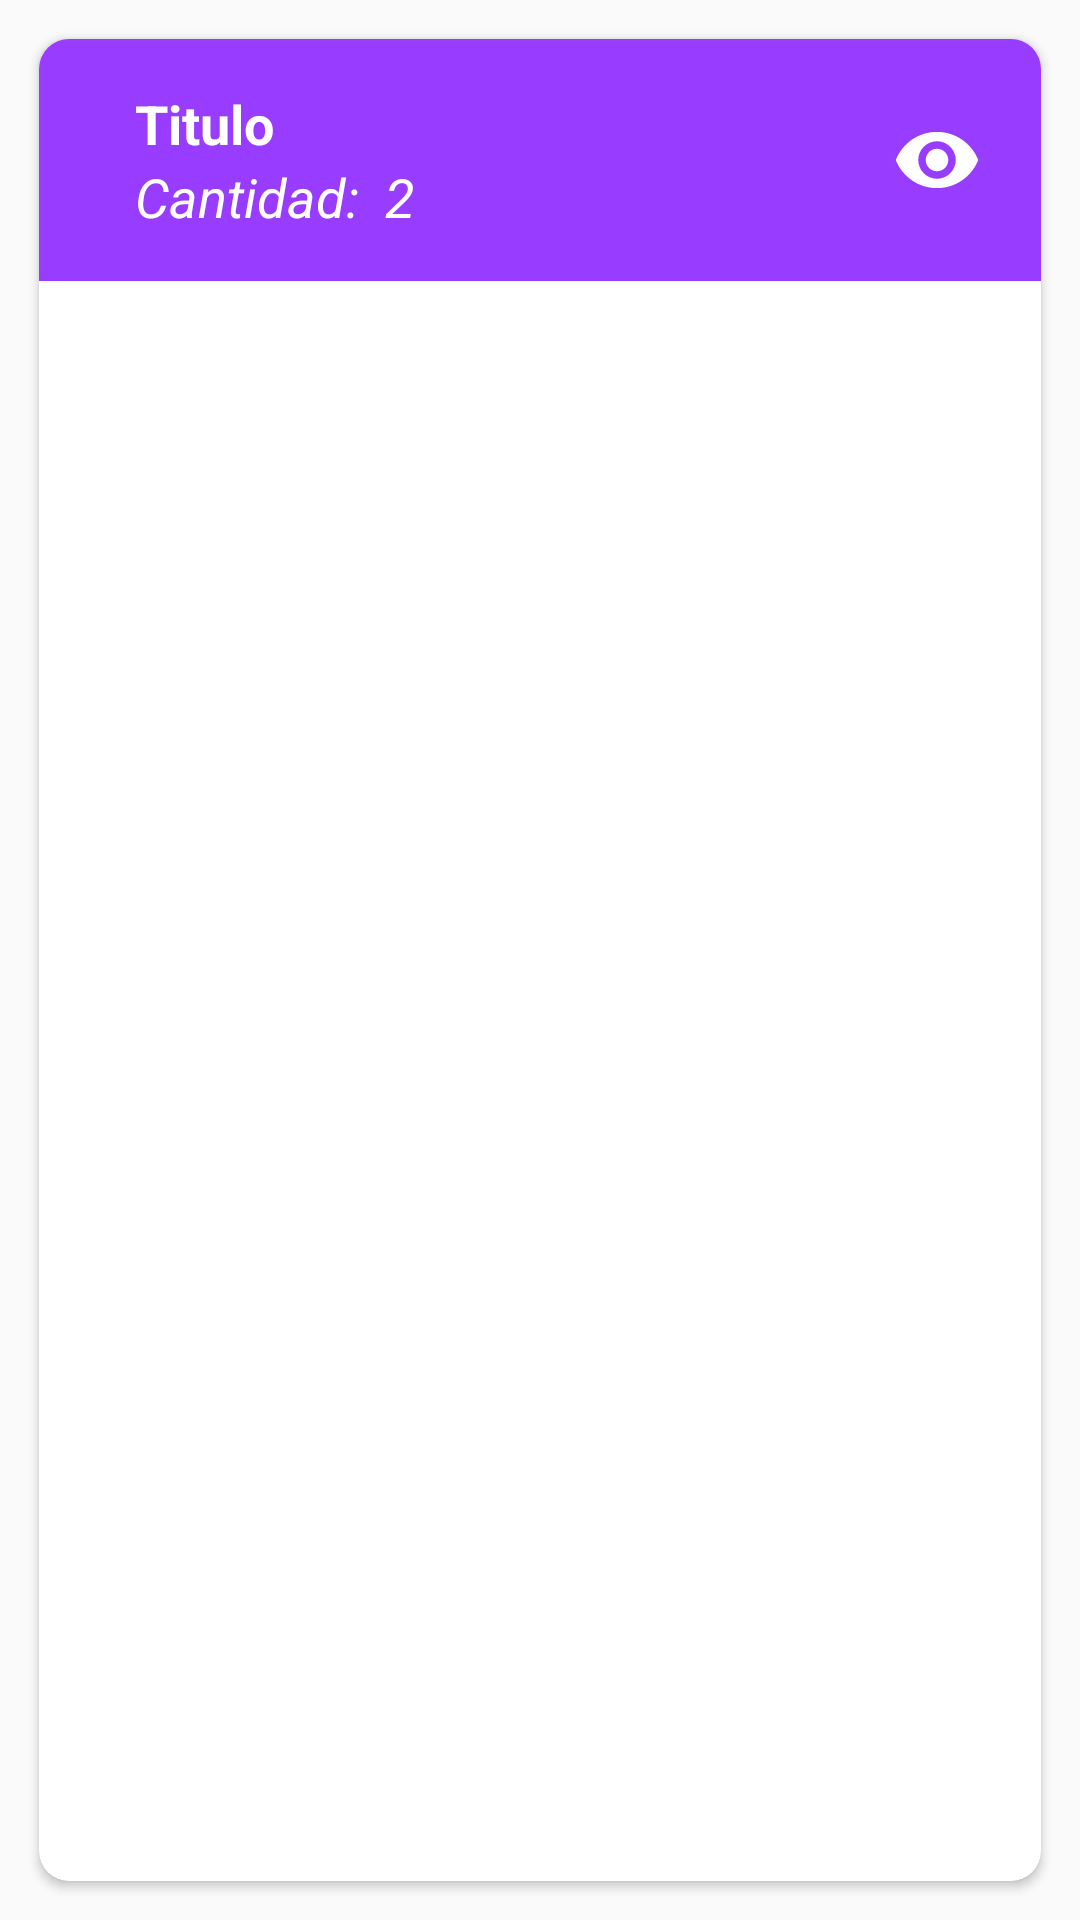

Icon click points for this 1080*1920 phone screenshot, format (x=x, y=y):
ojo: (x=937, y=160)
